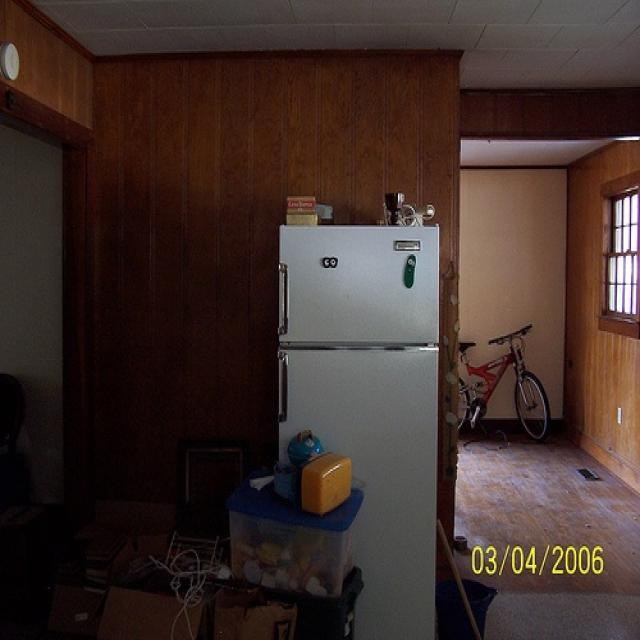bicycle: (456, 318, 562, 446)
